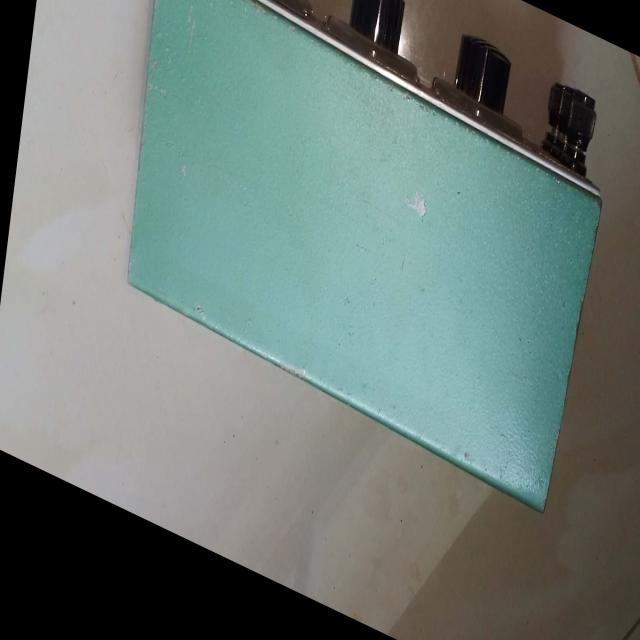Decade Resistance Box: (107, 0, 632, 534)
